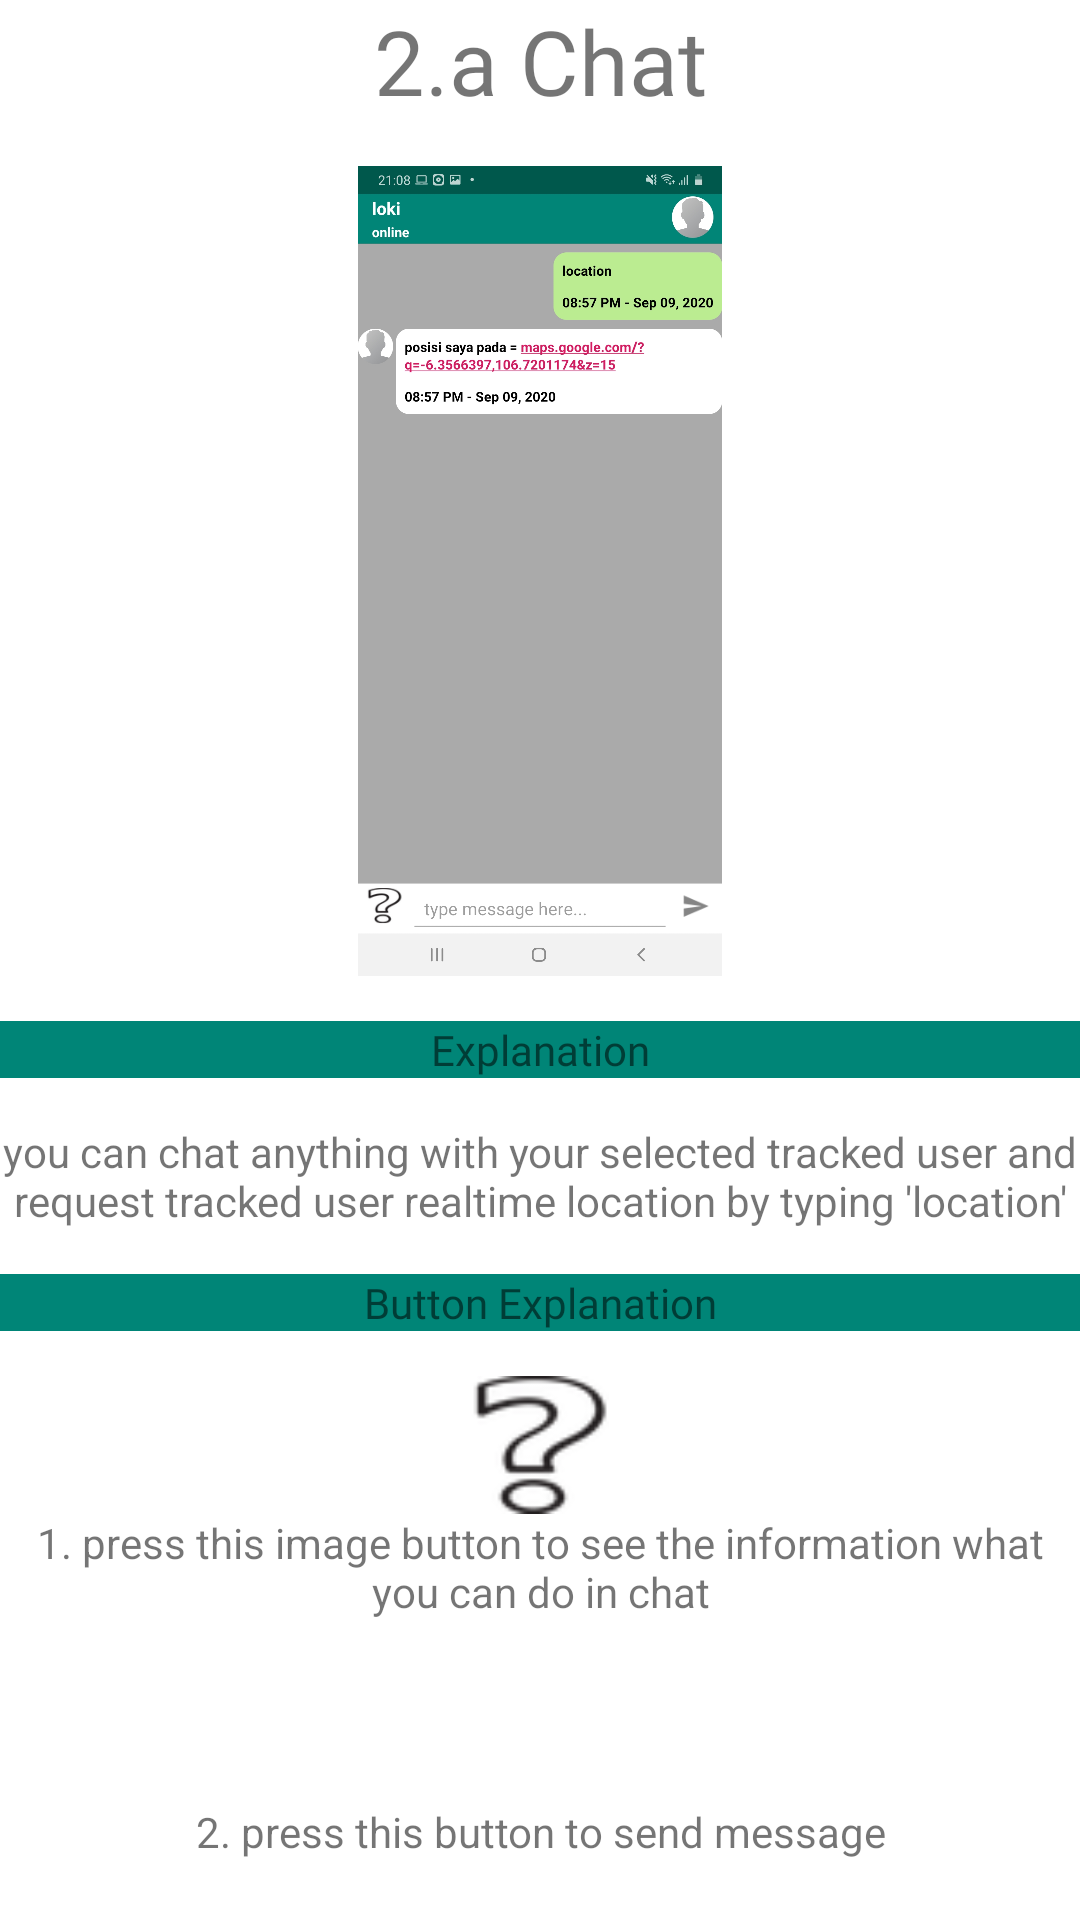

Locate icon controls on the screen. Image size 1080x1920, boxes as (x1, y1, x2, y2).
questionmark: (475, 1376, 607, 1514)
